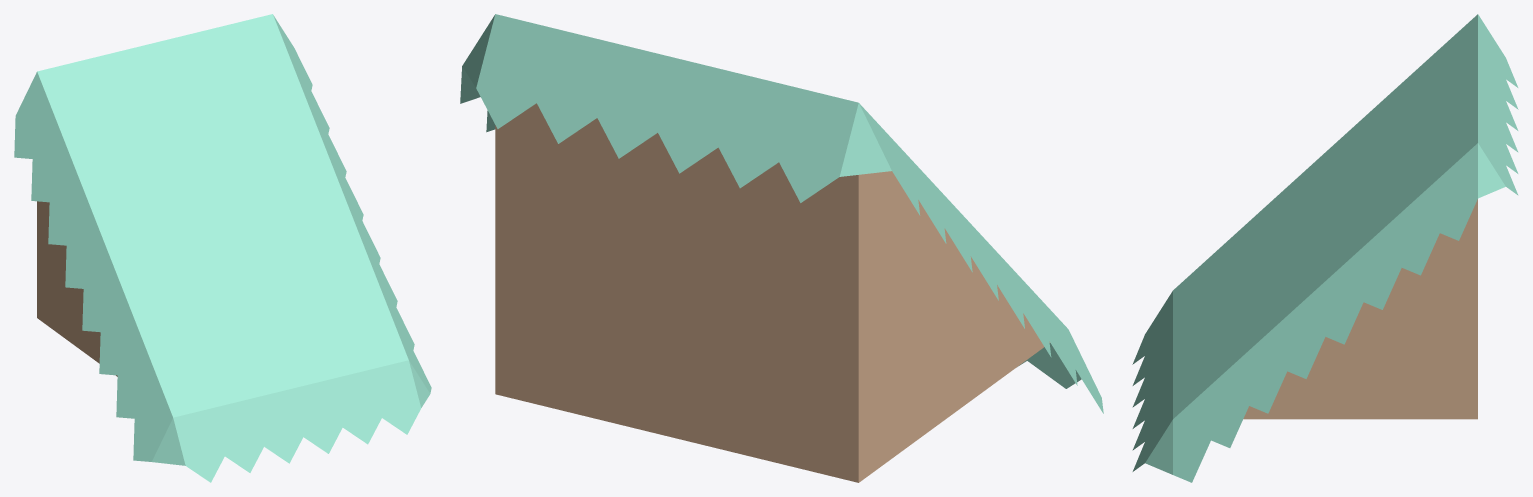
3 views of the same model, side by side, from view 1: azimuth 30°, elevation 25°; view 2: azimuth 150°, elevation 25°; view 3: azimuth 270°, elevation 25° (orthographic). The views are drawn at different scales.
Parts seen in each view (by area): view 1: blockSlope; view 2: blockSlope; view 3: blockSlope.
Boxes of the visible parts, x1,y1,x2,y2 form: blockSlope: (14, 14, 431, 482); blockSlope: (460, 14, 1103, 482); blockSlope: (1132, 14, 1518, 482).
Size of the model in its own units: 1.27 by 1.23 by 1.27.
